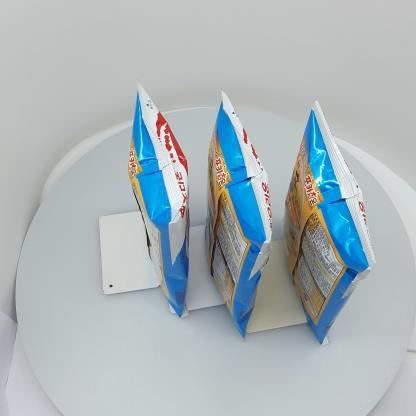Plastic Packaging: (286, 100, 376, 346), (124, 76, 192, 320), (206, 91, 272, 337)
